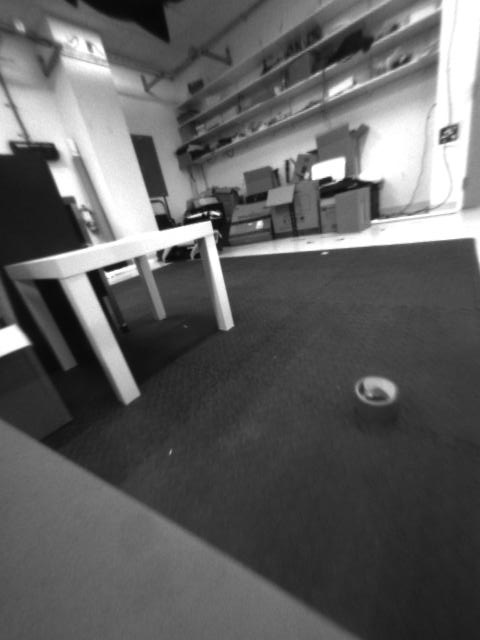dogtoy: (331, 367, 415, 430)
